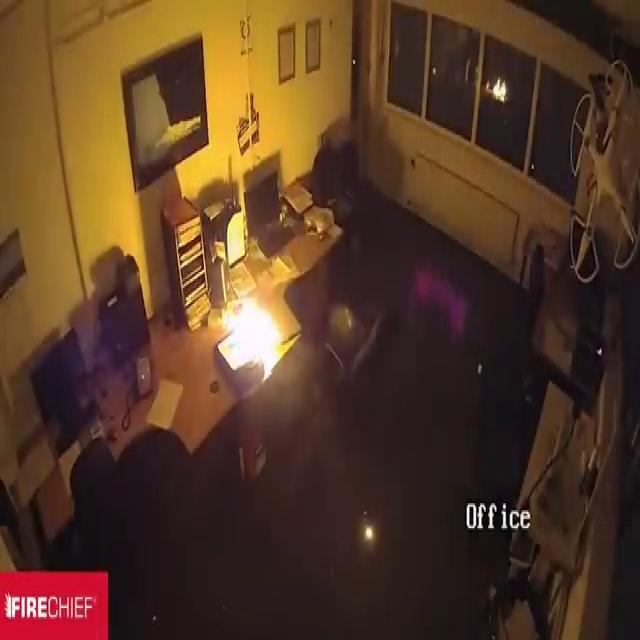fire: (198, 279, 292, 382)
